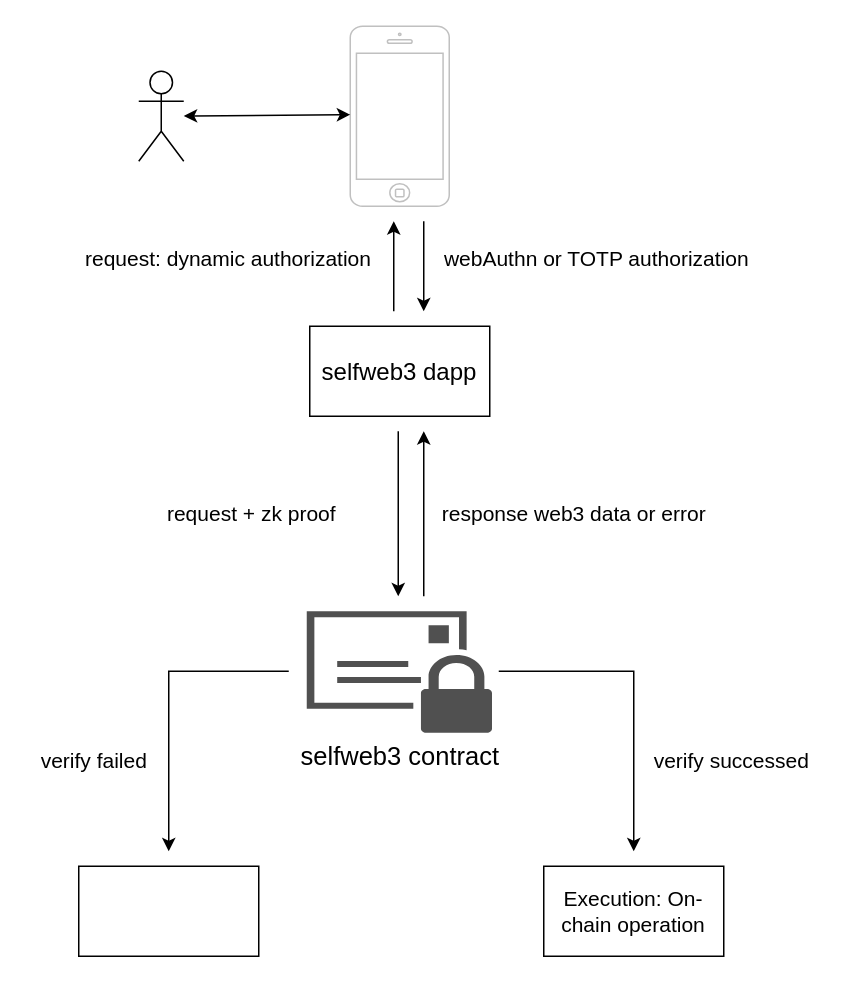
Some shapes in this 854 by 983 pixel diagram are drawn without their labels. The shapes that lost their labels are listed below. From the top down, each one's centre as x and y in pixels, then its label:
At (160,115): "Actor".
At (168,910): "Response: report error".
